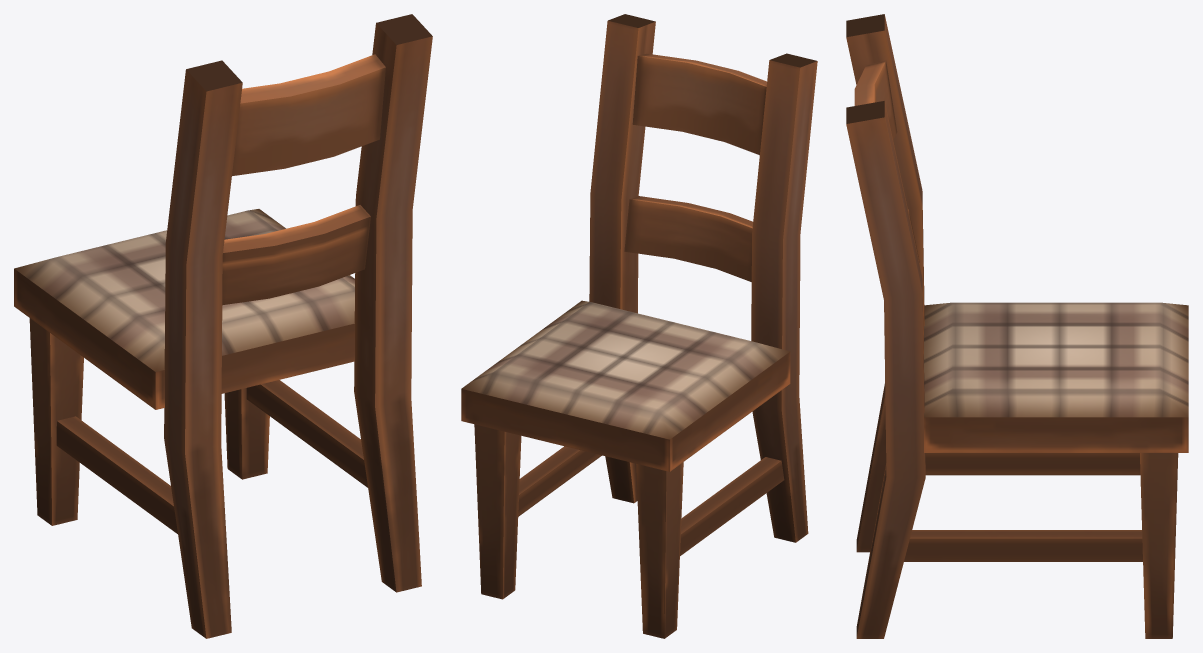
The model's file is FUR0110007.fbx.
The picture shows the model from 3 angles, left to right: view 1: azimuth 30°, elevation 25°; view 2: azimuth 150°, elevation 25°; view 3: azimuth 270°, elevation 25°; orthographic projection. The views are drawn at different scales.
Parts seen in each view (by area): view 1: smFUR0110007; view 2: smFUR0110007; view 3: smFUR0110007.
Boxes of the visible parts, left/top/right/bottom form: smFUR0110007: left=14, top=14, right=432, bottom=638; smFUR0110007: left=461, top=14, right=817, bottom=638; smFUR0110007: left=846, top=14, right=1188, bottom=638.
Size of the model in its own units: 57.55 by 126 by 74.45.
1 material, 1 textured.
